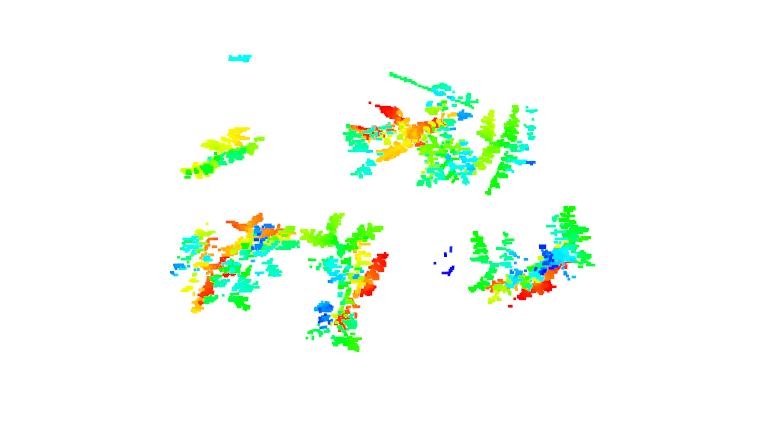chickpea: (470, 205, 605, 310), (297, 207, 389, 357), (343, 99, 479, 182), (224, 208, 302, 321), (416, 86, 493, 195), (162, 221, 237, 313), (480, 104, 552, 195), (180, 123, 270, 185)
